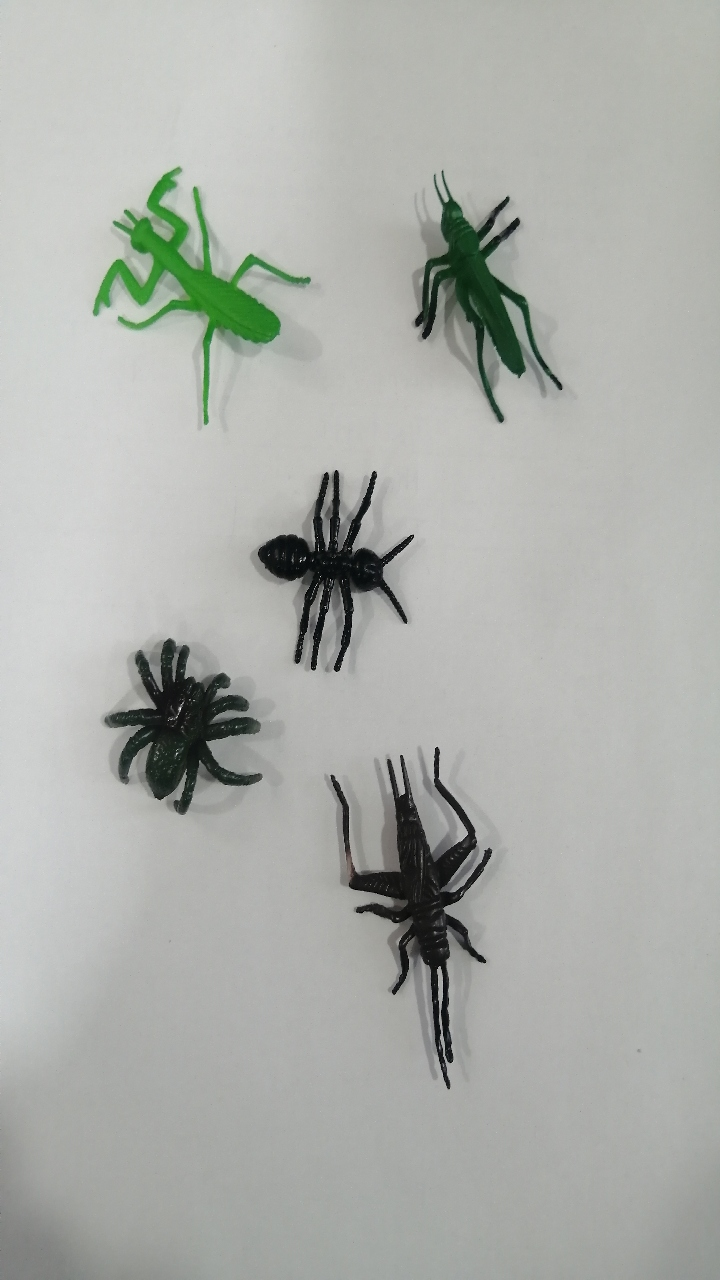intruso: (283, 717, 543, 1123), (54, 132, 332, 457), (374, 160, 586, 431), (60, 612, 283, 862), (231, 437, 438, 688)
